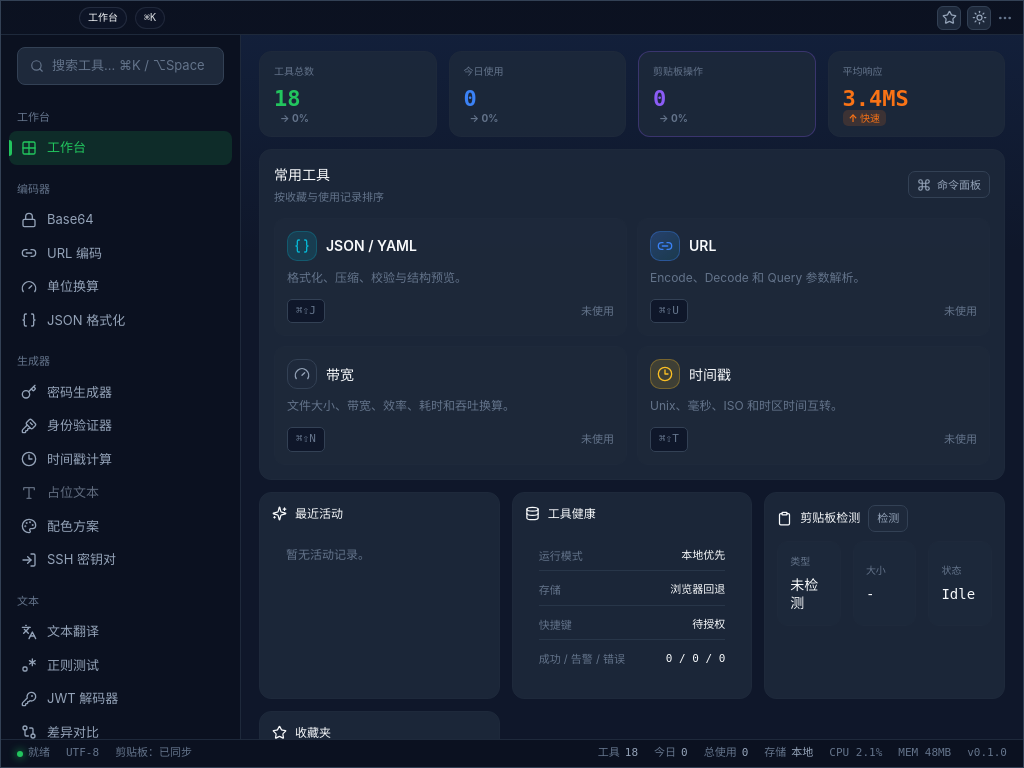
Test: App shell › preserves timestamp inputs when switching between tools
This screenshot has width=1024, height=768.
Click the link "时间戳计算": (66, 459) [21,450,112,467]
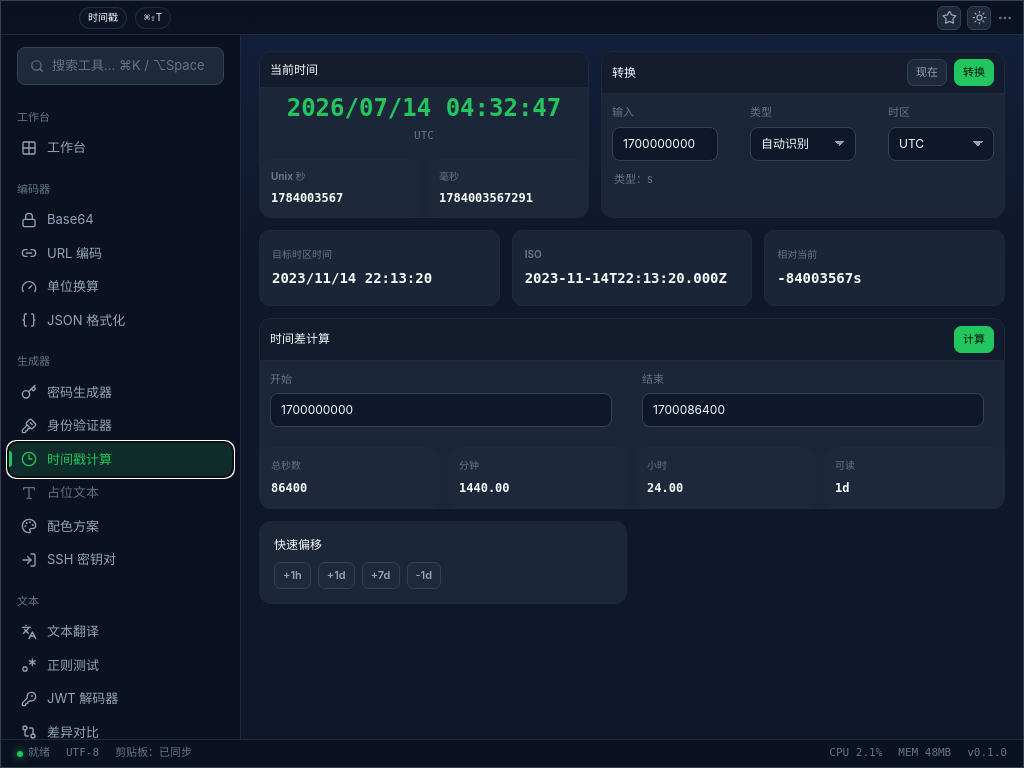
Replace the text in the field showing "1700000000" with "1800000000": (665, 144) [612,126,718,160]
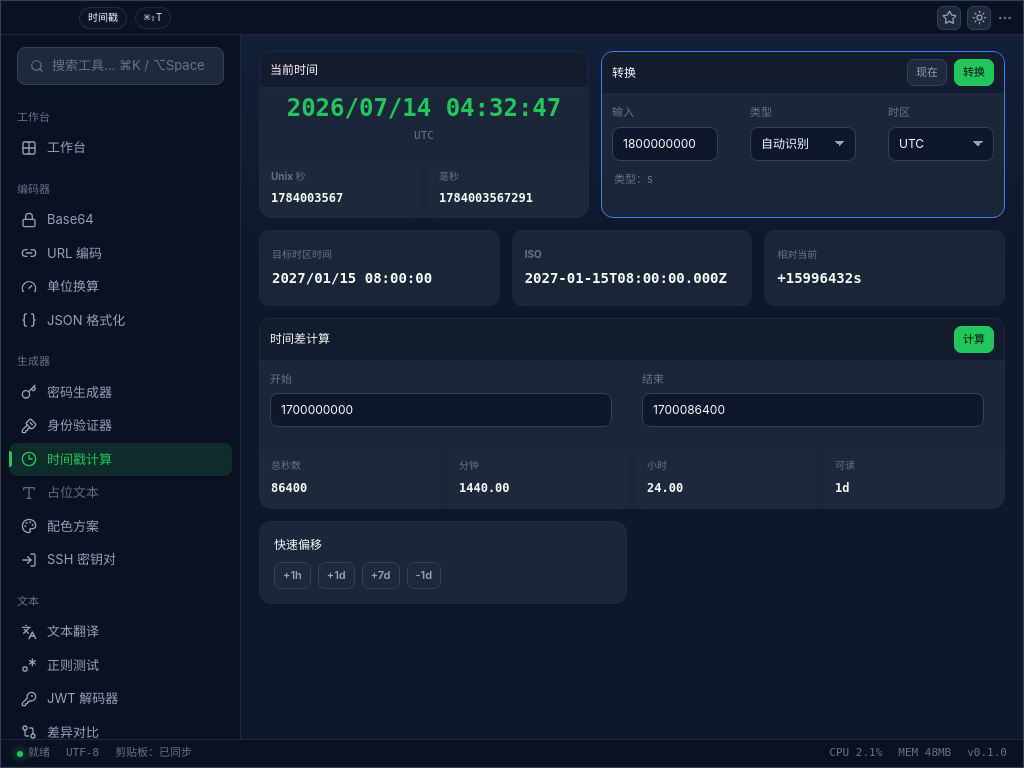
Replace the text in the field showing "1700000000" with "1800000100": (441, 410) [270,393,612,427]
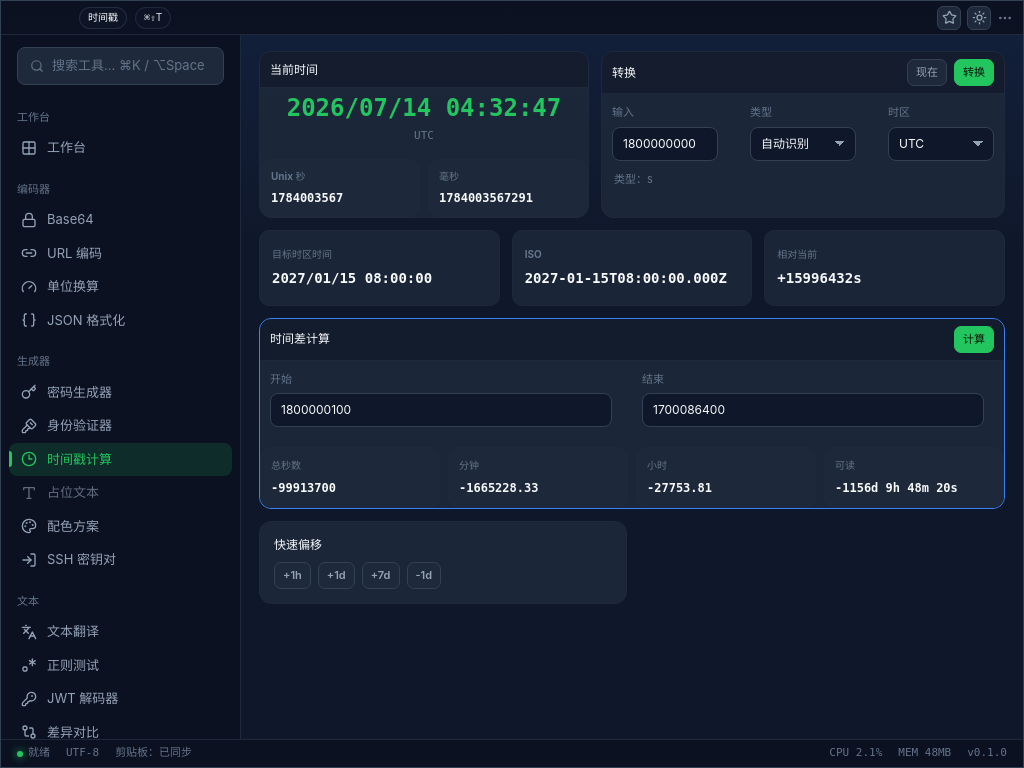
Click the link "正则测试": (60, 665) [21,656,99,673]
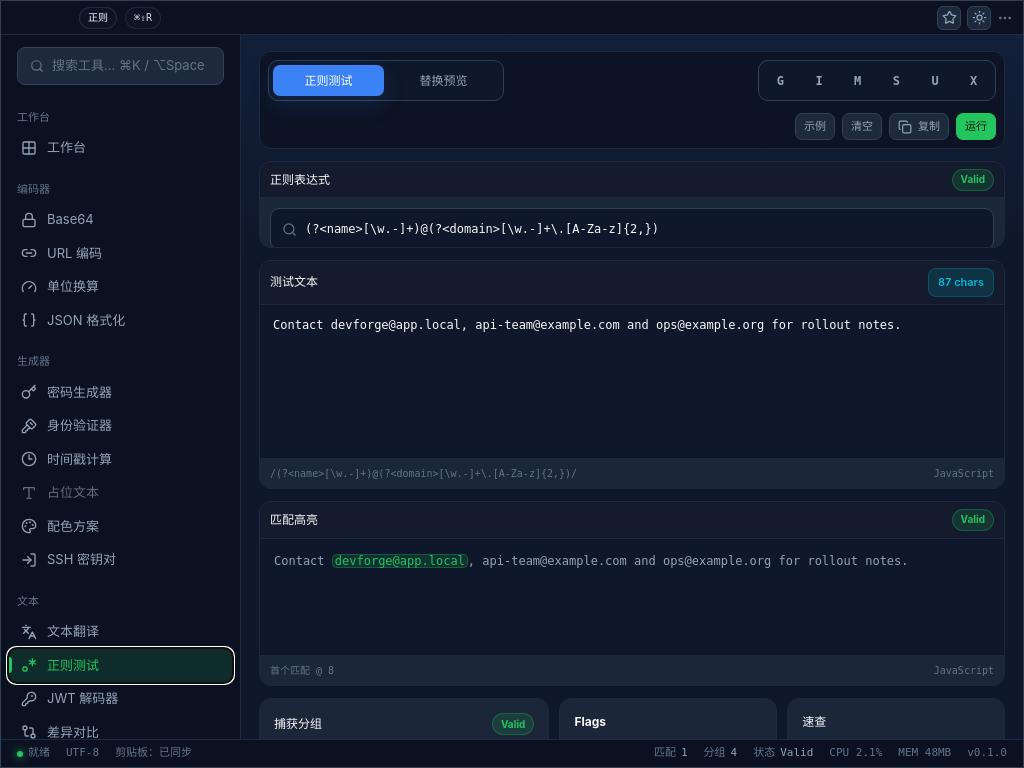
Expected: the text "匹配高亮" is shown, [270,511,318,529]
Expected: the element named "正则 快捷键" is shown, [125,6,161,28]
Click the link "时间戳计算": (66, 459) [21,450,112,467]
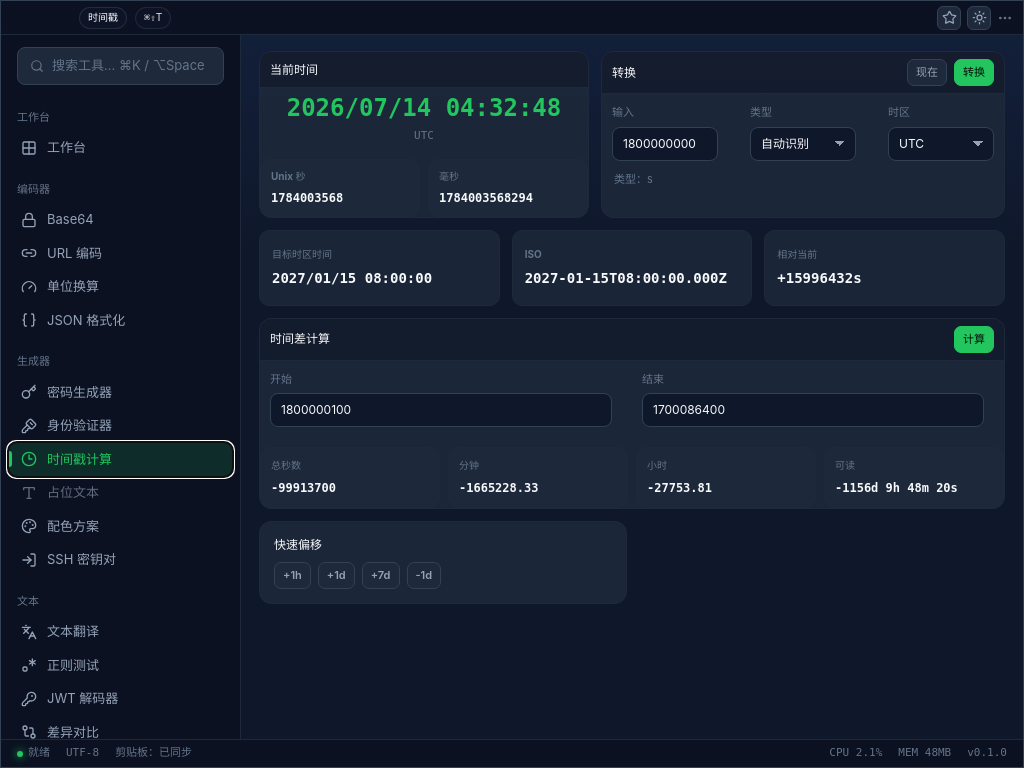
Expected: the element named "时间戳 快捷键" is shown, [135,6,171,28]
